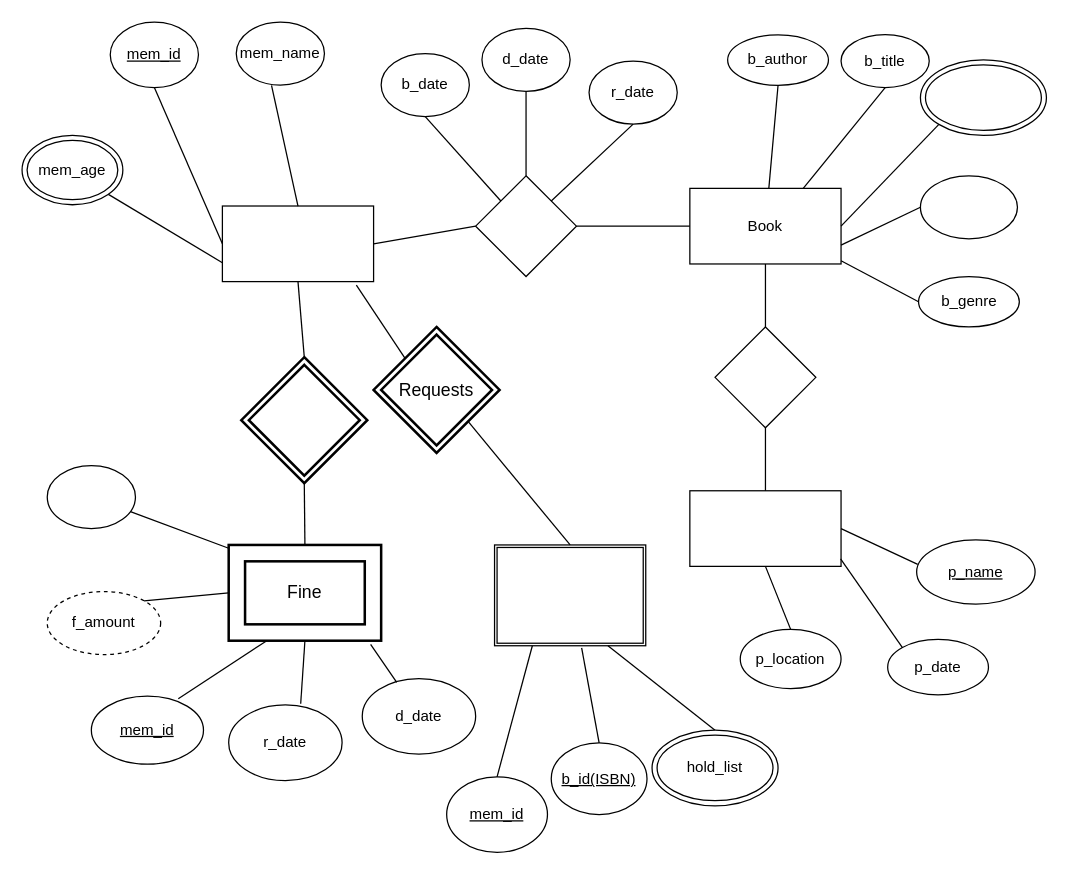
This 1068x874 diagram has some shape labels left out. Each missing label, with the centre of its shape:
"b_count" belongs at point (982, 97).
"b_id (ISBN)" belongs at point (968, 207).
"Borrows" belongs at point (525, 226).
"f_rate" belongs at point (90, 496).
"Member" belongs at point (297, 243).
"Pays" belongs at point (303, 419).
"Publisher" belongs at point (765, 528).
"Publishes" belongs at point (765, 377).
"Reservation" belongs at point (569, 595).
